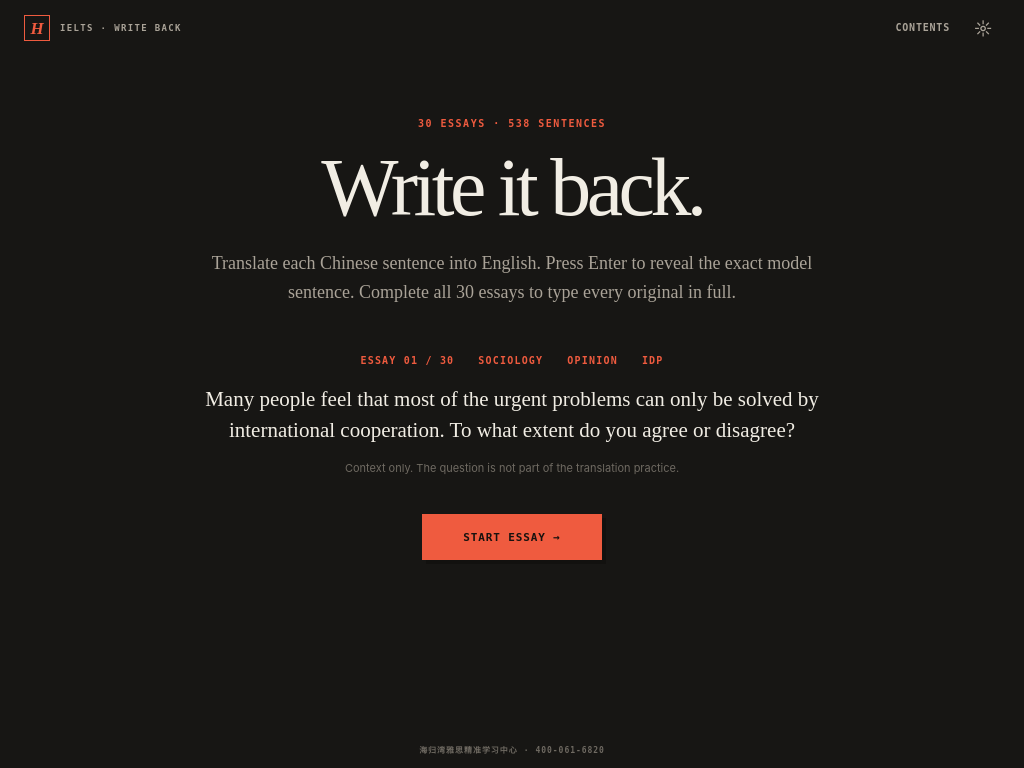
Test: translation practice flow › opens any chosen prompt without erasing course progress
The image size is (1024, 768).
What coordinates should you click on to do the following:
click the button "CONTENTS"
I would click on:
 (923, 28)
Its box is [895,9,950,47].
(page scrolled)
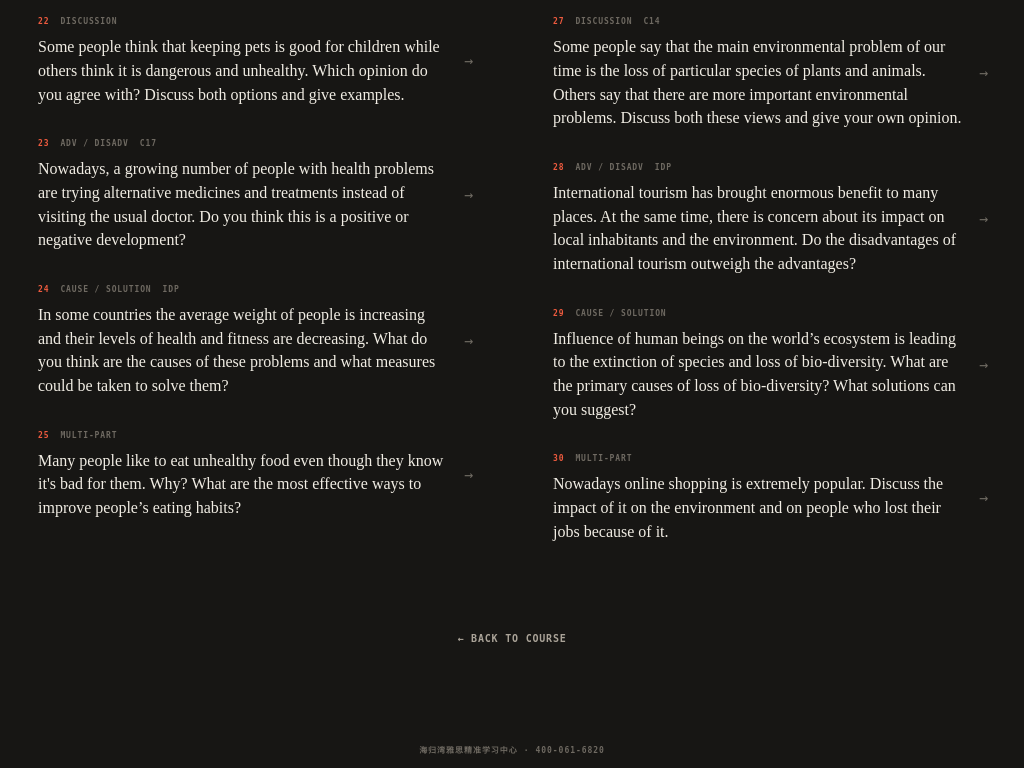
What coordinates should you click on to do the following:
click the button "Nowadays online shopping is extremely popular. Discuss the impact of it on the environment and on people who lost their "
I would click on:
 (770, 499)
Its box is [539,441,1000,556].
(page scrolled)
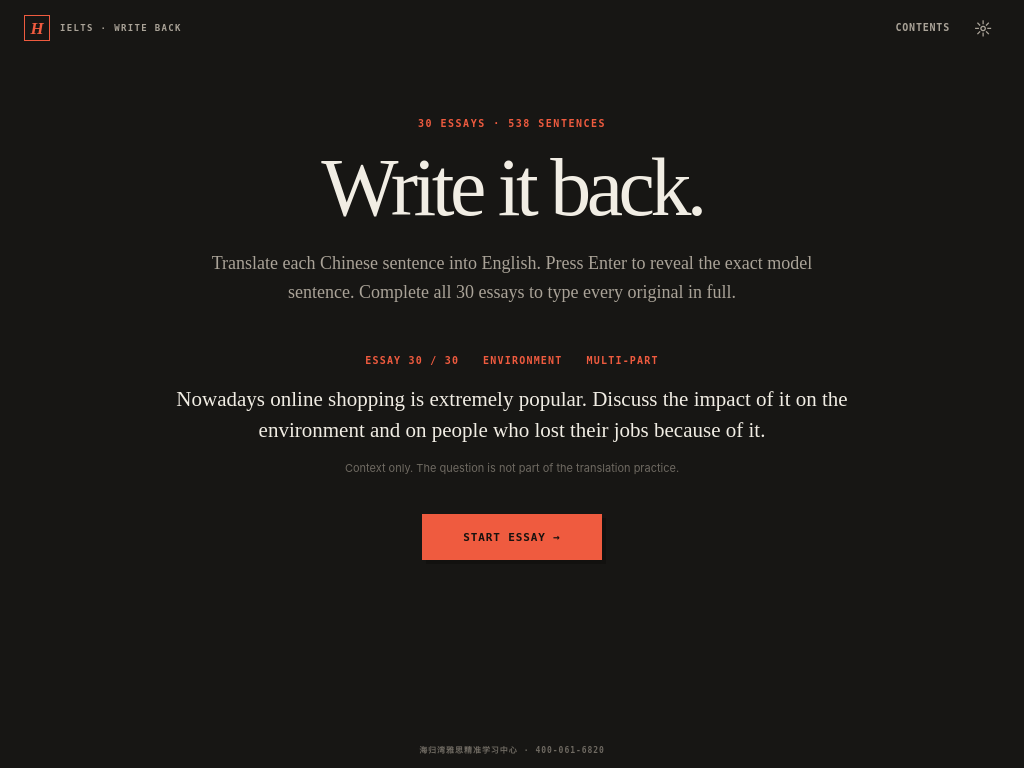
Result: the text "ESSAY 30 / 30" is shown at [365,356,459,366]
Result: the text "Nowadays online shopping is extremely popular. Discuss the impact of it on the environment and on people who lost their " is shown at [176,387,848,442]
